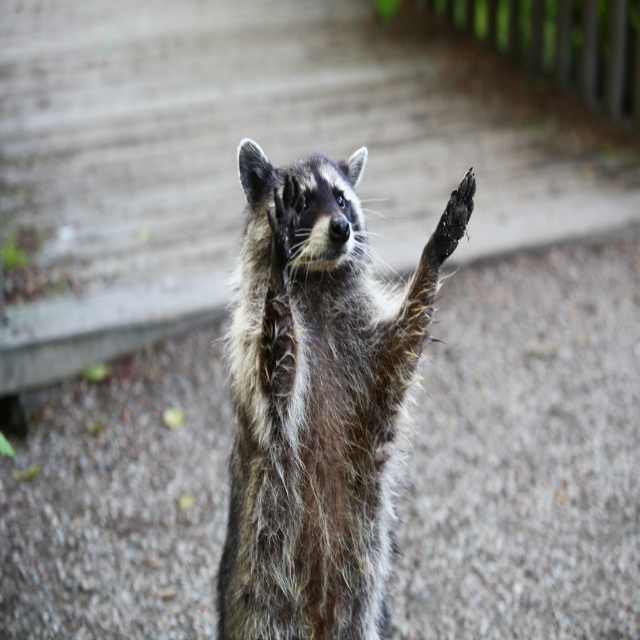Raccoon: (213, 135, 476, 639)
